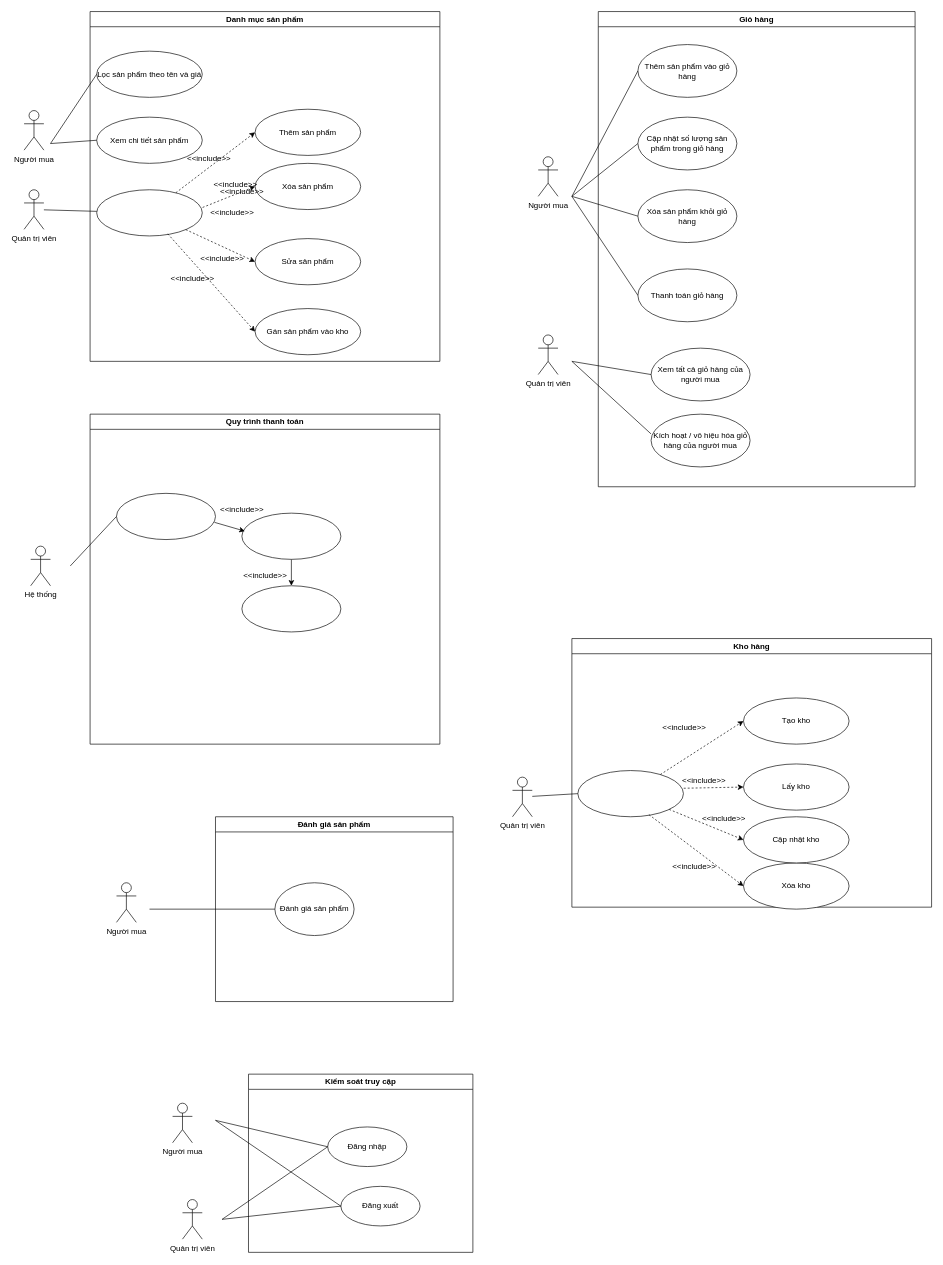
This 943x1265 diagram has some shape labels left out. Here are the shapes that lost their labels. From the top down, the centre of each, then its label:
pixel 149 212: Quản lí sản phẩm
pixel 165 516: Xác thực thông tin sản phẩm
pixel 291 535: Xử lý thanh toán
pixel 291 608: Gửi mail người dùng
pixel 630 793: Quản lí kho
